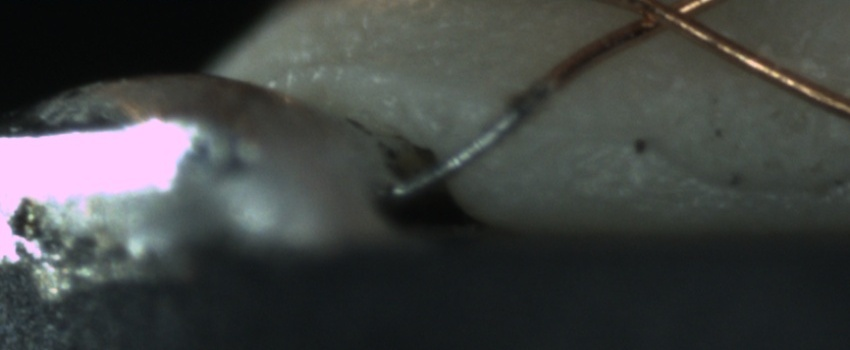CL: (616, 0, 725, 41)
DL: (491, 102, 647, 161)
TS: (390, 84, 548, 201)
